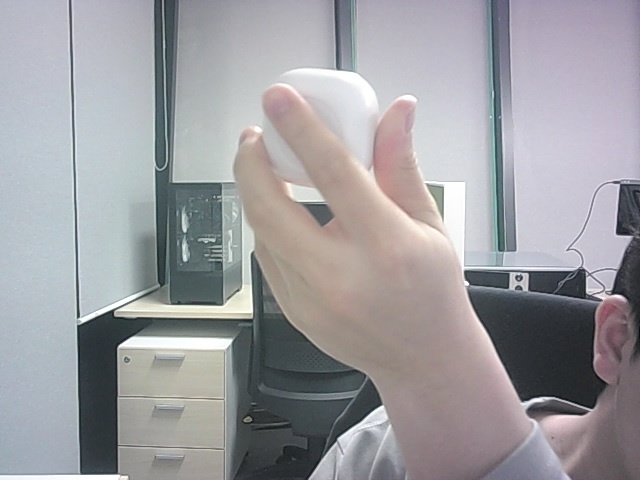case: (277, 68, 378, 169), (264, 116, 314, 187)
